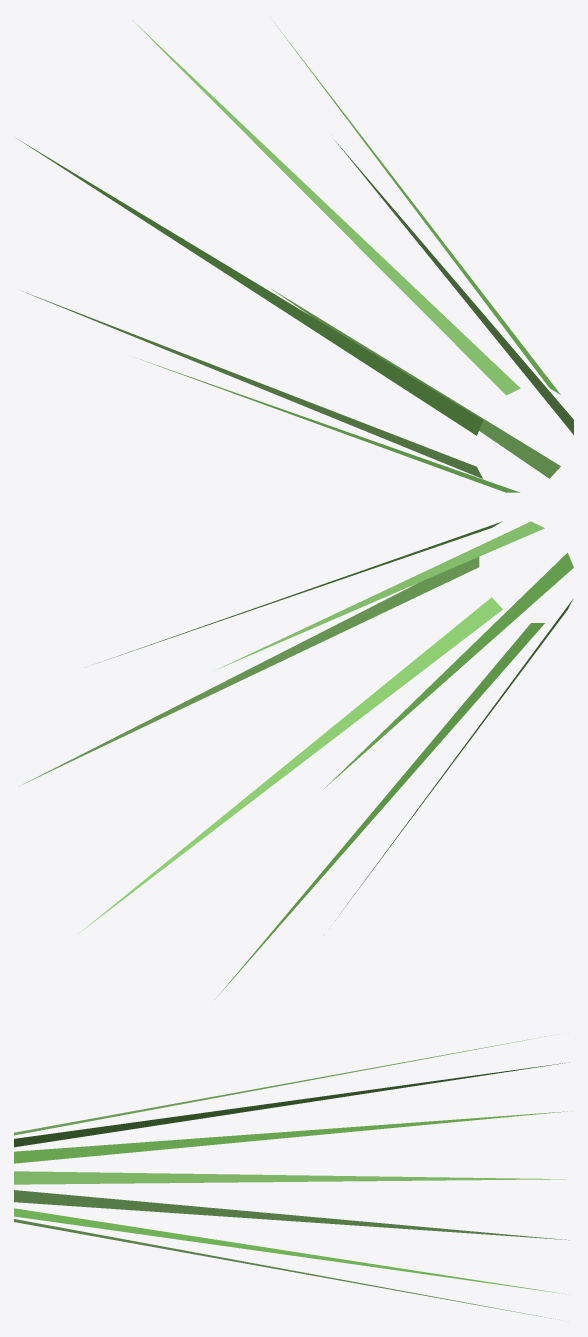
File: prop-grass-tuft.glb
3 renders of one model, top to bottom at view 1: azimuth 30°, elevation 25°; view 2: azimuth 150°, elevation 25°; view 3: azimuth 270°, elevation 25°, orthographic. The views are drawn at different scales.
Visible parts, largest first — view 1: GrassBlade3, GrassBlade2, GrassBlade4, GrassBlade0, GrassBlade6, GrassBlade1, GrassBlade5; view 2: GrassBlade6, GrassBlade0, GrassBlade5, GrassBlade3, GrassBlade2, GrassBlade1, GrassBlade4; view 3: GrassBlade4, GrassBlade0, GrassBlade1, GrassBlade3, GrassBlade5, GrassBlade6, GrassBlade2.
Boxes of the visible parts, x1,y1,x2,y2 form: GrassBlade3: (18, 139, 482, 435); GrassBlade2: (132, 20, 520, 395); GrassBlade4: (22, 291, 482, 478); GrassBlade0: (332, 137, 573, 434); GrassBlade6: (271, 289, 560, 478); GrassBlade1: (273, 21, 560, 394); GrassBlade5: (140, 359, 519, 492); GrassBlade6: (78, 597, 502, 933); GrassBlade0: (18, 557, 479, 786); GrassBlade5: (216, 623, 544, 997); GrassBlade3: (324, 552, 573, 788); GrassBlade2: (217, 521, 544, 669); GrassBlade1: (97, 521, 502, 663); GrassBlade4: (335, 598, 573, 920); GrassBlade4: (14, 1171, 565, 1184); GrassBlade0: (14, 1190, 569, 1240); GrassBlade1: (14, 1111, 571, 1163); GrassBlade3: (14, 1062, 569, 1147); GrassBlade5: (14, 1208, 566, 1294); GrassBlade6: (14, 1219, 555, 1319); GrassBlade2: (14, 1034, 555, 1135).
Size of the model in its own units: 15.21 by 15.6 by 30.
